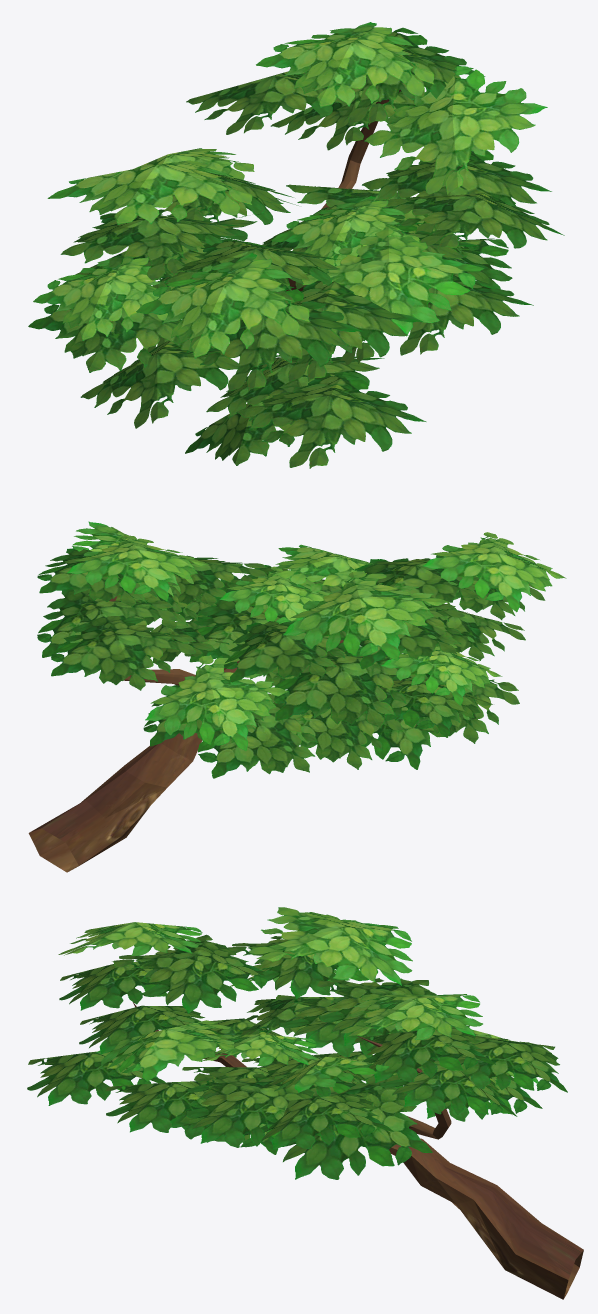
The model's file is TKZC_DaShu_02.fbx.
3 views of the same model, one above another, from view 1: azimuth 30°, elevation 25°; view 2: azimuth 150°, elevation 25°; view 3: azimuth 270°, elevation 25° (orthographic). The views are drawn at different scales.
Visible parts, largest first — view 1: TKZC_DaShu_02; view 2: TKZC_DaShu_02; view 3: TKZC_DaShu_02.
Boxes of the visible parts, x1,y1,x2,y2 form: TKZC_DaShu_02: [28, 22, 564, 468]; TKZC_DaShu_02: [28, 521, 566, 872]; TKZC_DaShu_02: [27, 907, 583, 1299].
Size of the model in its own units: 4.05 by 2.53 by 4.44.
